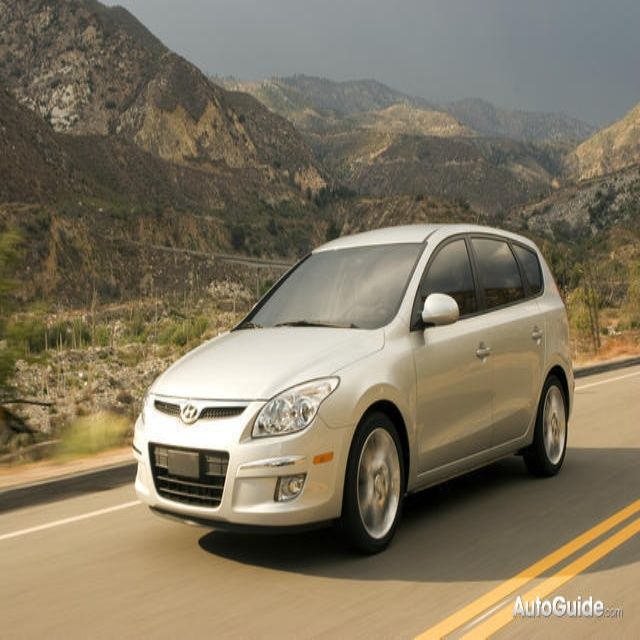Car: (132, 222, 574, 553)
